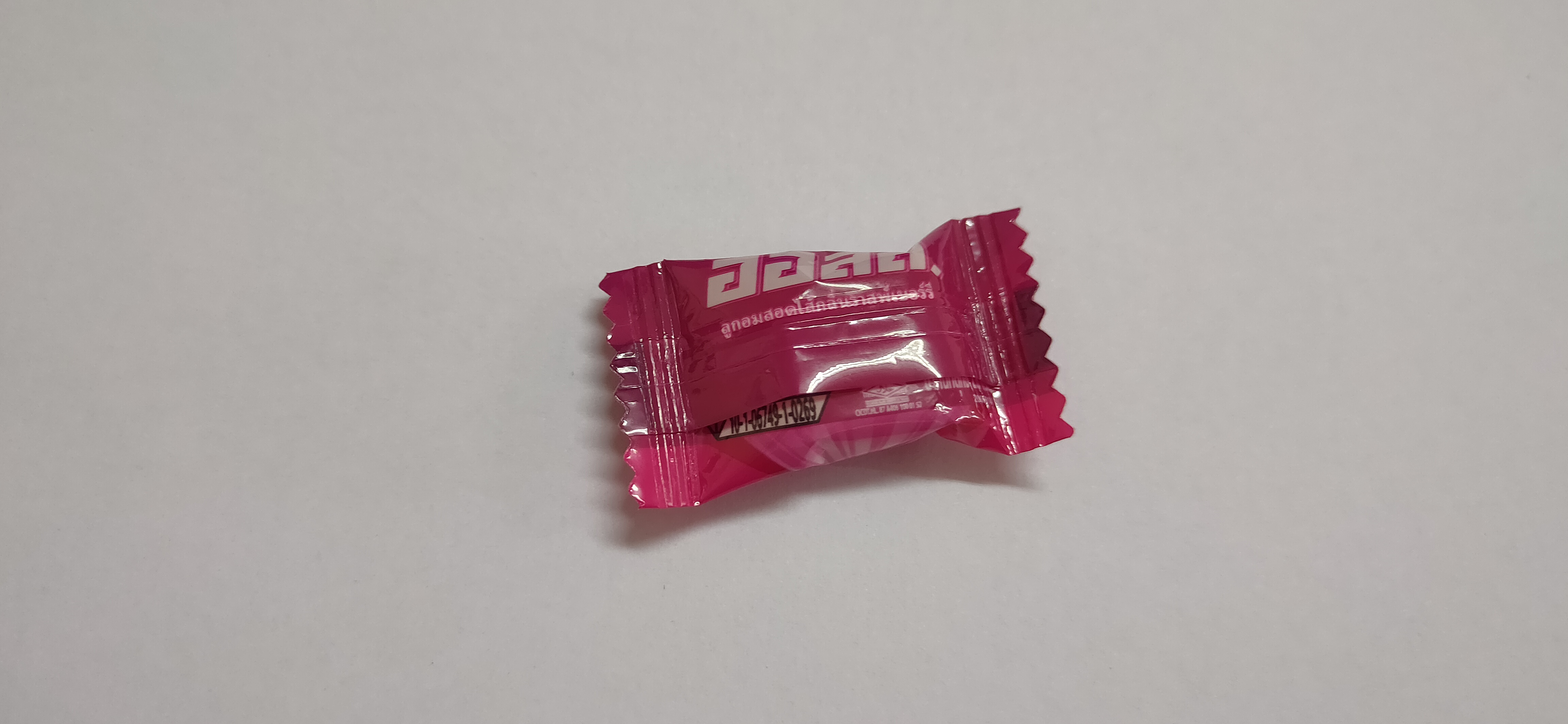plastic: (559, 198, 1092, 560)
